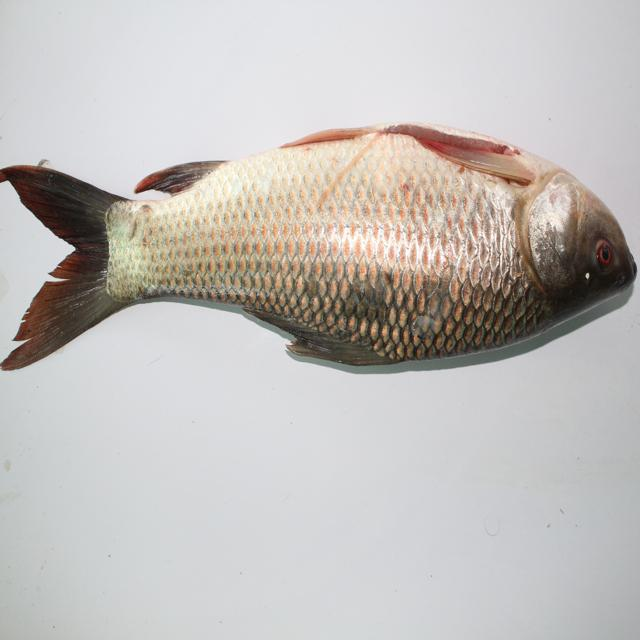Rohu: (3, 112, 640, 375)
